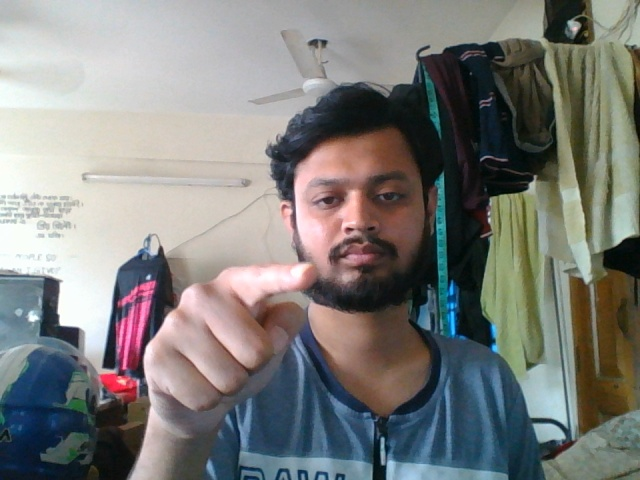tumi: (133, 253, 327, 454)
